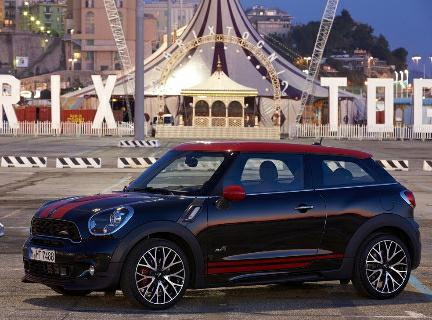MINI-JCWPACEMAN: (24, 140, 426, 305)
